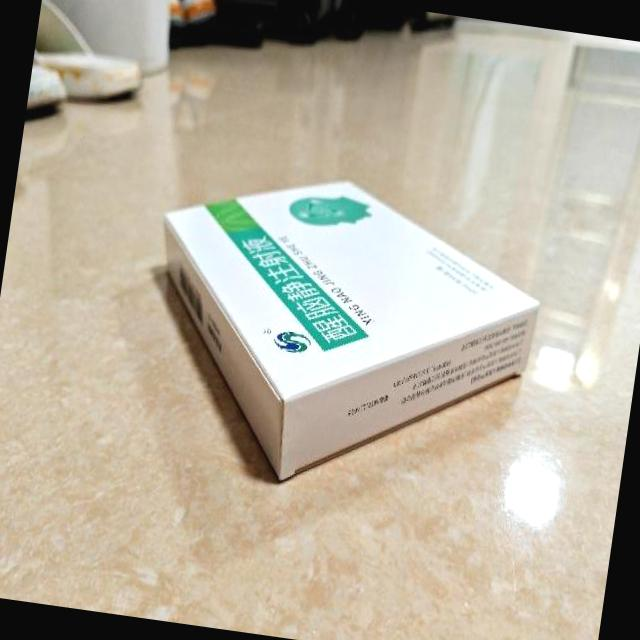box: (131, 155, 553, 515)
